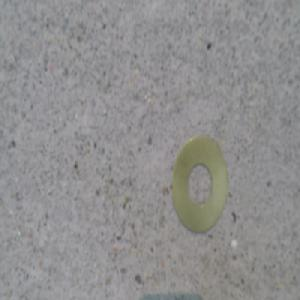Washer: (171, 132, 228, 234)
